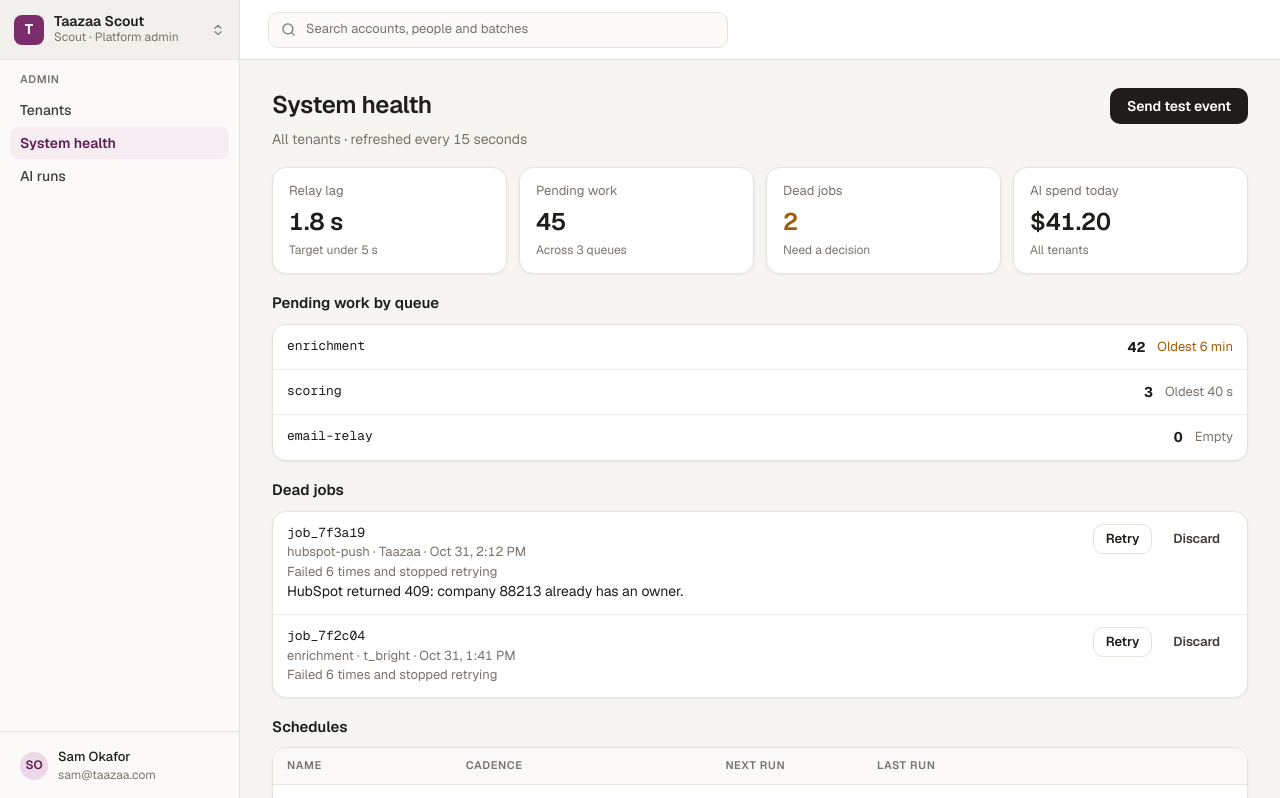
Test case: dead jobs › cancels the discard with Esc and returns focus
Click the button with aria-label "Discard job_7f2c04". click: [1197, 642]
box: [1160, 627, 1233, 657]
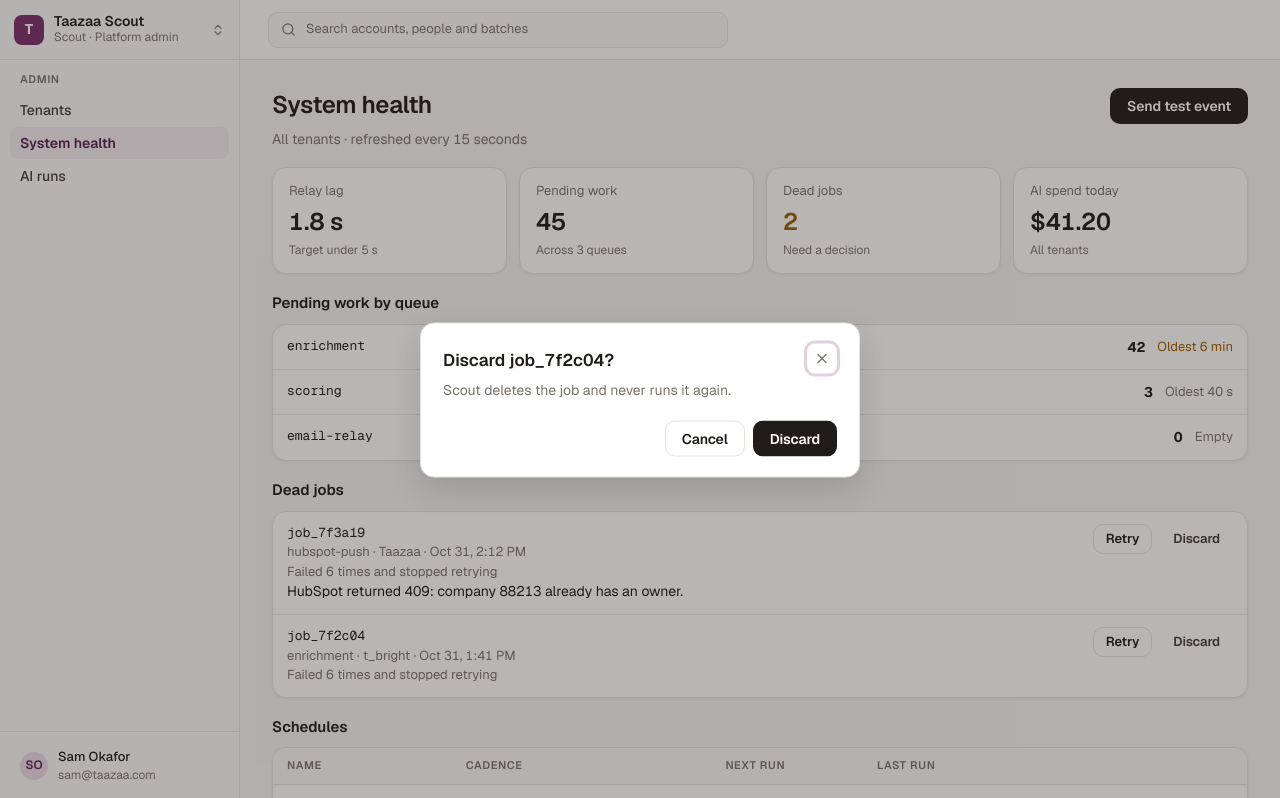
Expected: the dialog "Discard job_7f2c04?" is shown, [420, 322, 860, 478]
Press Escape
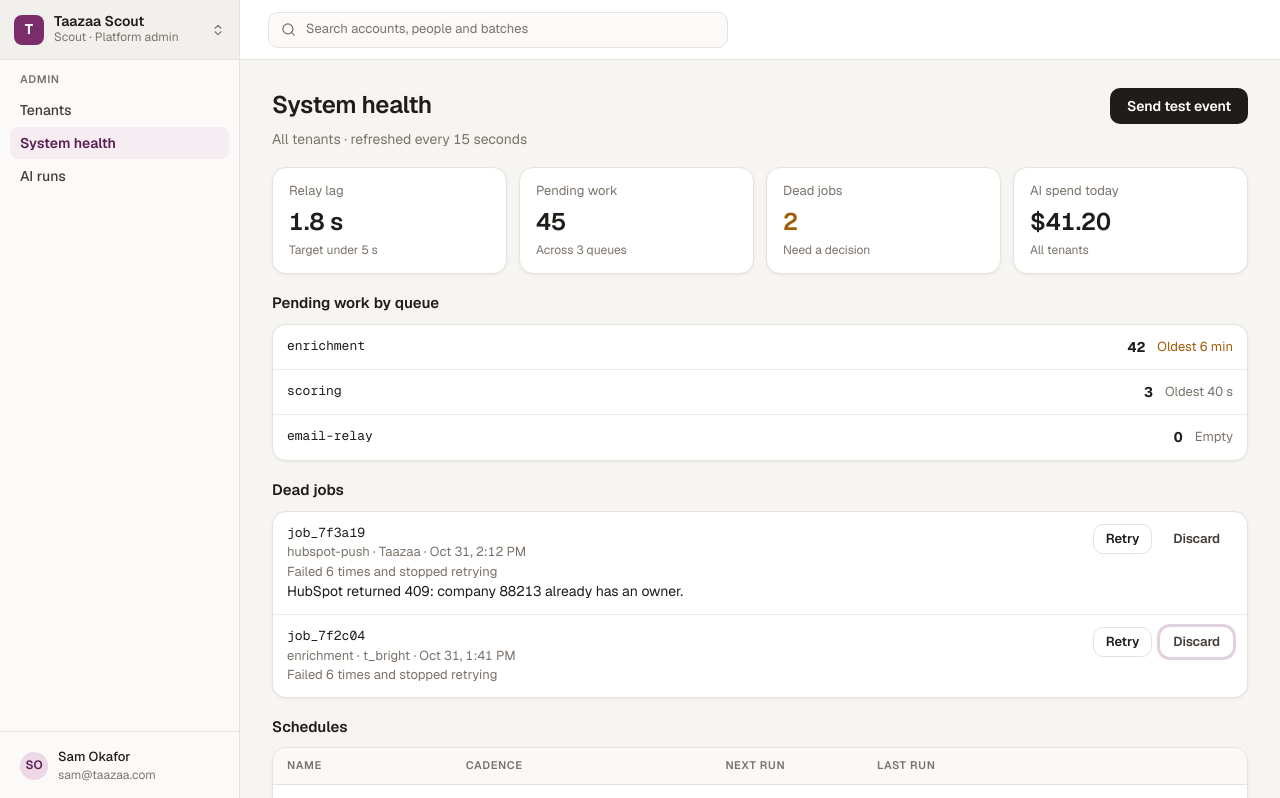
Expected: the dialog is gone
